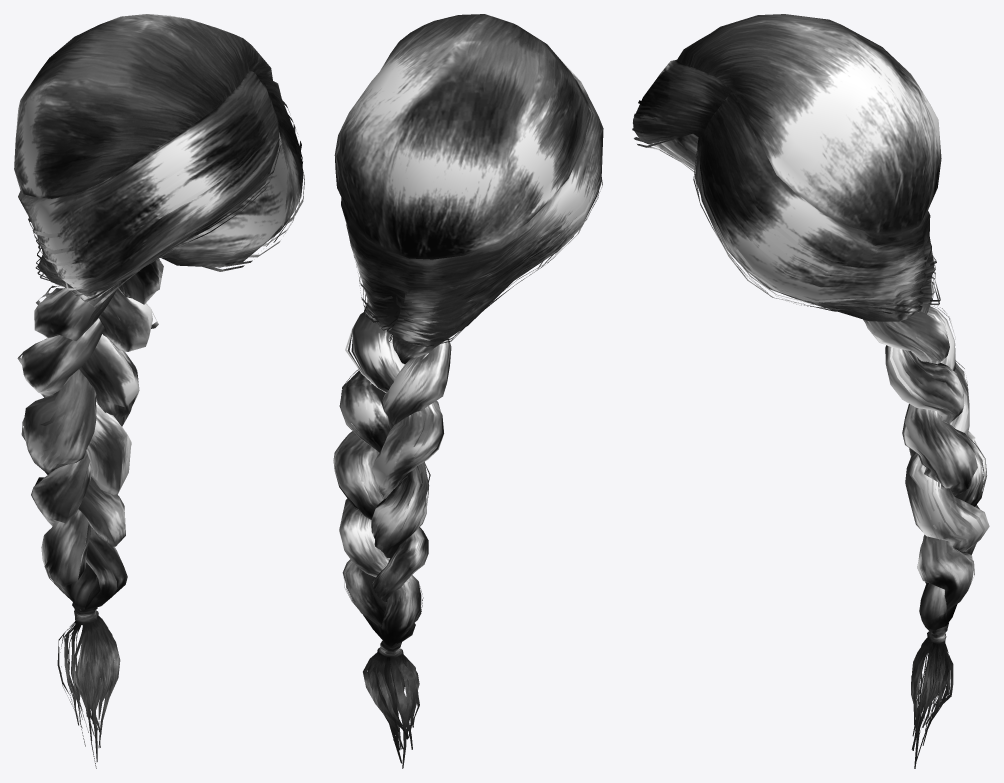
Rendered from hair_braid01.gltf.
The picture shows the model from 3 angles, left to right: view 1: azimuth 30°, elevation 25°; view 2: azimuth 150°, elevation 25°; view 3: azimuth 270°, elevation 25°; orthographic projection. The views are drawn at different scales.
Parts seen in each view (by area): view 1: hair_braid01; view 2: hair_braid01; view 3: hair_braid01.
Boxes of the visible parts, x1,y1,x2,y2 form: hair_braid01: [14, 14, 304, 768]; hair_braid01: [333, 14, 603, 768]; hair_braid01: [632, 14, 989, 768].
Bounding box in the file's own units: 0.1858 × 0.5878 × 0.2556.
1 material, 1 textured.
